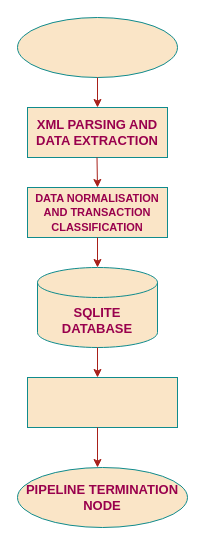
Some shapes in this 205 by 545 pixel diagram are drawn without their labels. The shapes that lost their labels are listed below. From the top down, each one's box as (x1, y1, x2, y2) in pixels, then its label:
(16, 16, 178, 78): SMS INPUT (RAW XML)
(26, 376, 178, 428): ANALYTICS AND VISUALISATION LAYER
